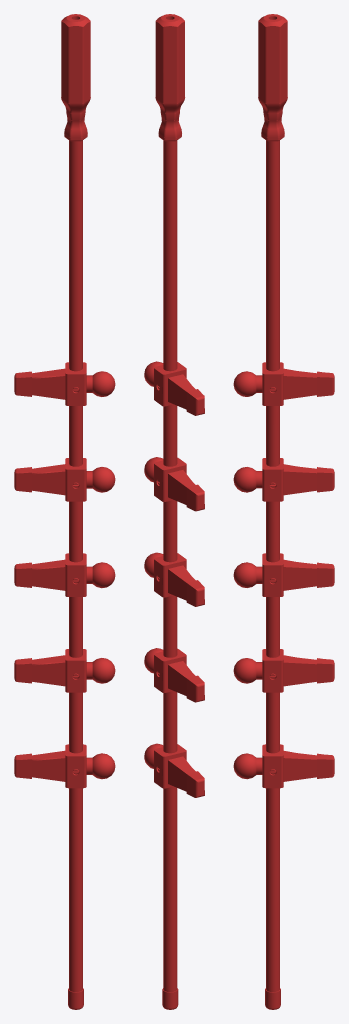
Rendered from 5-bar-centered_team_1.obj.
3 views of the same model, side by side, from view 1: azimuth 90°, elevation 25°; view 2: azimuth 210°, elevation 25°; view 3: azimuth 270°, elevation 25° (orthographic).
Parts seen in each view (by area): view 1: 5-bar; view 2: 5-bar; view 3: 5-bar.
Boxes of the visible parts, bbox=[...] form: 5-bar: bbox=[14, 14, 115, 1009]; 5-bar: bbox=[144, 14, 204, 1009]; 5-bar: bbox=[233, 14, 334, 1009].
Bounding box in the file's own units: 0.032 × 1.24 × 0.115.
